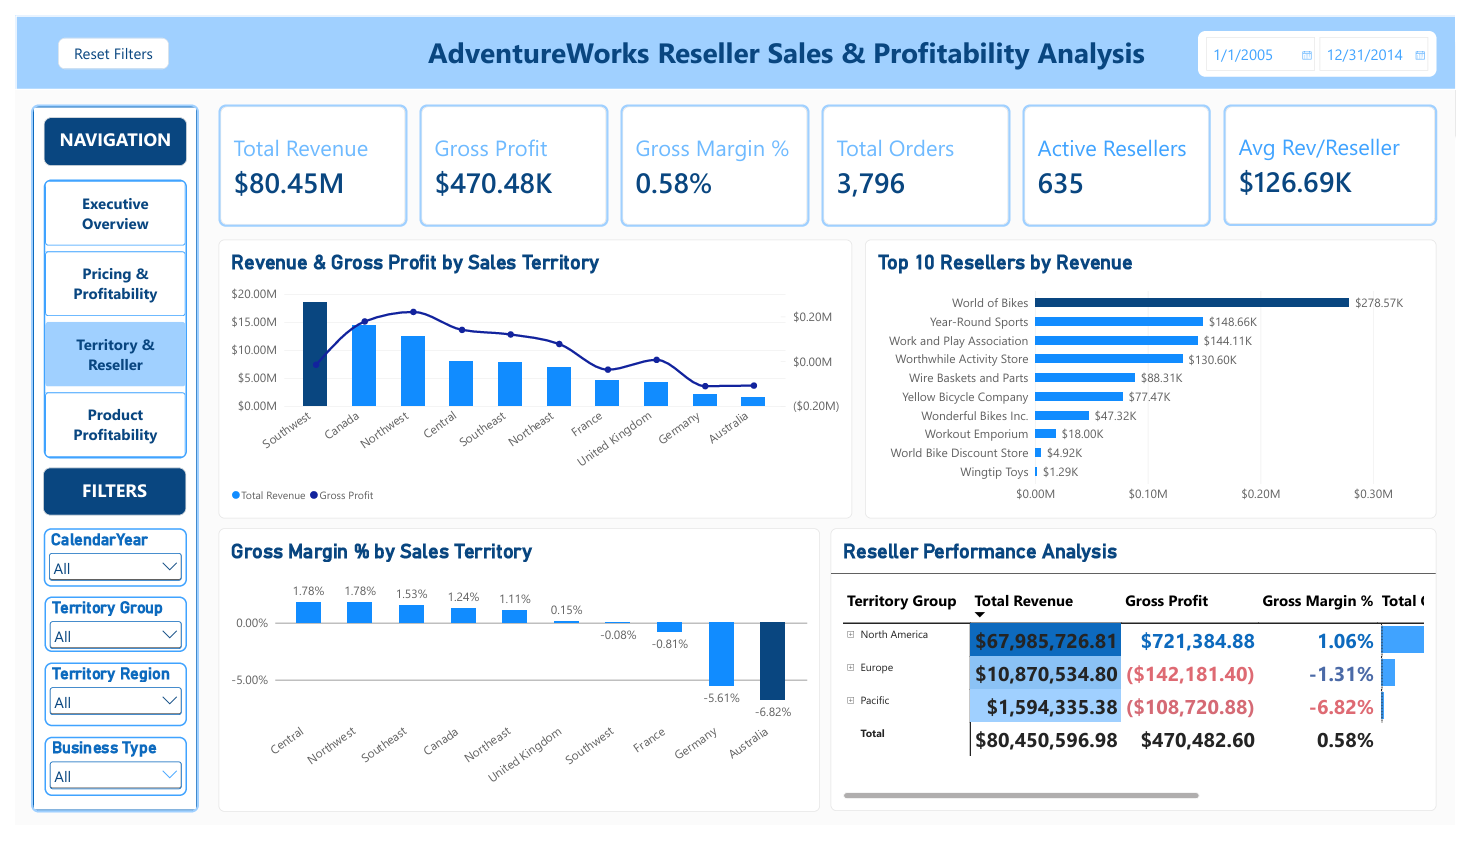

What the dashboard file says about the page in this screenshot:
{"tool":"powerbi","page":{"name":"Territory & Reseller ","canvas":[1920,1080],"ordinal":2},"visuals":[{"type":"cardVisual","fields":{"Data":["_Measures.Total Revenue"]},"box":[270.4,118.1,251.6,162.6],"z":0},{"type":"shape","box":[0,0,1920,98],"z":1000},{"type":"shape","box":[20.5,118.1,223.7,943.5],"z":2000},{"type":"textbox","box":[478.6,14.3,1096.9,70.3],"z":3000},{"type":"cardVisual","fields":{"Data":["_Measures.Gross Profit"]},"box":[538.2,118.1,251.6,162.6],"z":4000},{"type":"cardVisual","fields":{"Data":["_Measures.Gross Margin %"]},"box":[806.1,118.1,251.6,162.6],"z":5000},{"type":"cardVisual","fields":{"Data":["_Measures.Total Orders"]},"box":[1074,118.1,251.6,162.6],"z":6000},{"type":"cardVisual","fields":{"Data":["_Measures.Active Resellers"]},"box":[1341.8,118.1,251.6,162.6],"z":7000},{"type":"cardVisual","fields":{"Data":["_Measures.Avg Revenue per Reseller"]},"box":[1609.7,118.1,285.1,162.2],"z":8000},{"type":"lineClusteredColumnComboChart","title":"Revenue & Gross Profit by Sales Territory","fields":{"Category":["DimSalesTerritory.SalesTerritoryRegion"],"Y":["_Measures.Total Revenue"],"Y2":["_Measures.Gross Profit"]},"box":[270.4,297.9,845.1,372.3],"z":9000},{"type":"clusteredBarChart","title":"Top 10 Resellers by Revenue","fields":{"Category":["DimReseller.ResellerName"],"Y":["_Measures.Total Revenue"]},"box":[1131.6,297.9,762.5,372.3],"z":10000},{"type":"clusteredColumnChart","title":"Gross Margin % by Sales Territory ","fields":{"Category":["DimSalesTerritory.SalesTerritoryRegion"],"Y":["_Measures.Gross Margin %"]},"box":[270.3,683.2,801.7,377.7],"z":11000},{"type":"pivotTable","title":"Reseller Performance Analysis","fields":{"Rows":["DimSalesTerritory.SalesTerritoryGroup","DimSalesTerritory.SalesTerritoryRegion","DimReseller.ResellerName"],"Values":["_Measures.Total Revenue","_Measures.Gross Profit","_Measures.Gross Margin %","_Measures.Total Orders","_Measures.Units Sold","_Measures.Average Selling Price"]},"box":[1086.3,683.2,807.8,377.2],"z":12000},{"type":"textbox","box":[37,135,190.5,64.7],"z":13000},{"type":"textbox","box":[36.2,601.7,190.6,64],"z":14000},{"type":"slicer","fields":{"Values":["DimDate.FullDateAlternateKey"]},"box":[1576,20.3,318.2,61],"z":15000},{"type":"slicer","fields":{"Values":["DimDate.CalendarYear"]},"box":[37,683,190.5,77.7],"z":16000},{"type":"slicer","fields":{"Values":["DimReseller.BusinessType"]},"box":[37.8,960.8,190.6,78.8],"z":17000},{"type":"slicer","fields":{"Values":["DimSalesTerritory.SalesTerritoryRegion"]},"box":[37.8,862,190.5,85.1],"z":18000},{"type":"pageNavigator","box":[37,218.3,190.5,371.8],"z":19000},{"type":"slicer","fields":{"Values":["DimSalesTerritory.SalesTerritoryGroup"]},"box":[37.8,774.3,190,74],"z":20000},{"type":"actionButton","box":[55.6,29.3,148,42],"z":21000}]}

Visuals, with their boxes in screenshot pixels (x1, y1, x2, y2), scaled from the page's 1920x1080 canvas onto the 1473x844 screenshot:
cardVisual - _Measures.Total Revenue: bbox(207, 92, 400, 219)
shape: bbox(0, 0, 1472, 77)
shape: bbox(16, 92, 187, 830)
textbox: bbox(367, 11, 1209, 66)
cardVisual - _Measures.Gross Profit: bbox(413, 92, 606, 219)
cardVisual - _Measures.Gross Margin %: bbox(618, 92, 811, 219)
cardVisual - _Measures.Total Orders: bbox(824, 92, 1017, 219)
cardVisual - _Measures.Active Resellers: bbox(1029, 92, 1222, 219)
cardVisual - _Measures.Avg Revenue per Reseller: bbox(1235, 92, 1454, 219)
"Revenue & Gross Profit by Sales Territory" lineClusteredColumnComboChart: bbox(207, 233, 856, 524)
"Top 10 Resellers by Revenue" clusteredBarChart: bbox(868, 233, 1453, 524)
"Gross Margin % by Sales Territory " clusteredColumnChart: bbox(207, 534, 822, 829)
"Reseller Performance Analysis" pivotTable: bbox(833, 534, 1453, 829)
textbox: bbox(28, 106, 175, 156)
textbox: bbox(28, 470, 174, 520)
slicer - DimDate.FullDateAlternateKey: bbox(1209, 16, 1453, 64)
slicer - DimDate.CalendarYear: bbox(28, 534, 175, 594)
slicer - DimReseller.BusinessType: bbox(29, 751, 175, 812)
slicer - DimSalesTerritory.SalesTerritoryRegion: bbox(29, 674, 175, 740)
pageNavigator: bbox(28, 171, 175, 461)
slicer - DimSalesTerritory.SalesTerritoryGroup: bbox(29, 605, 175, 663)
actionButton: bbox(43, 23, 156, 56)
